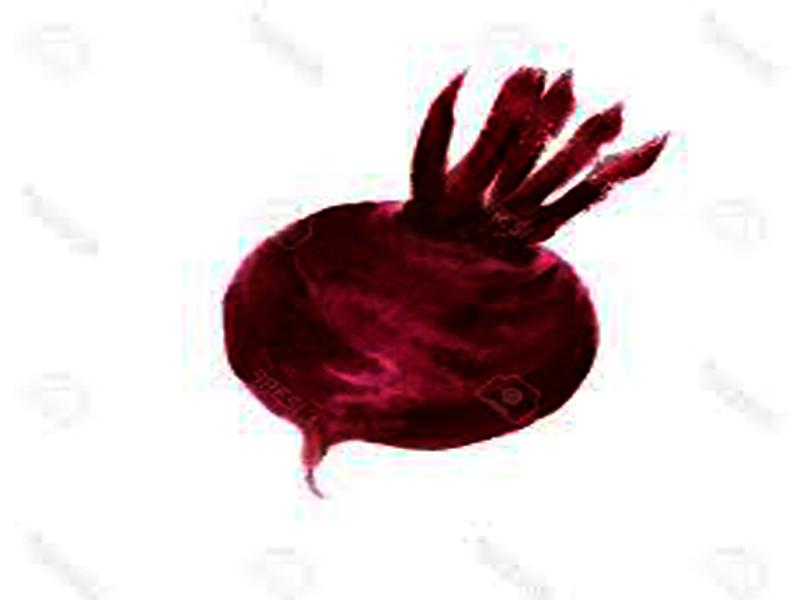Beet: (220, 68, 666, 500)
